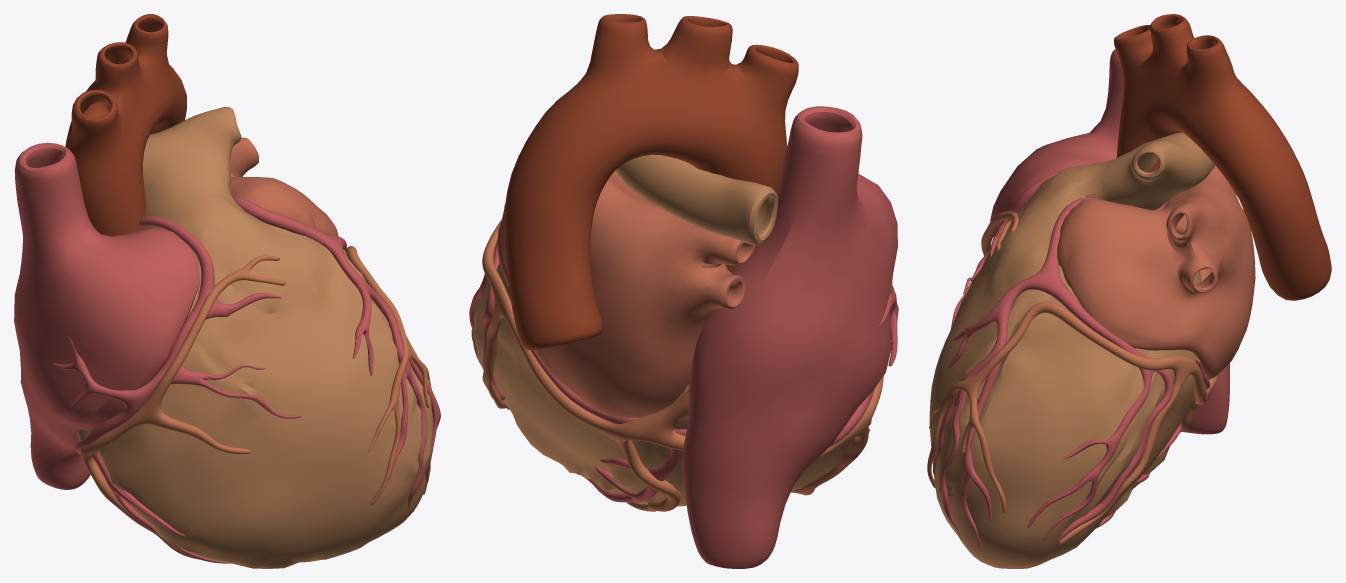
Rendered from colored-heart.fbx.
3 renders of one model, left to right at view 1: azimuth 30°, elevation 25°; view 2: azimuth 150°, elevation 25°; view 3: azimuth 270°, elevation 25°, orthographic. The views are drawn at different scales.
Visible parts, largest first — view 1: Heart_Animated_Master; view 2: Heart_Animated_Master; view 3: Heart_Animated_Master.
Part boxes in pixels (box(x1,y1,x2,y2)): Heart_Animated_Master: box(14, 14, 440, 568); Heart_Animated_Master: box(469, 14, 898, 568); Heart_Animated_Master: box(927, 14, 1331, 568).
Bounding box in the file's own units: 3.45 × 4.53 × 3.48.
